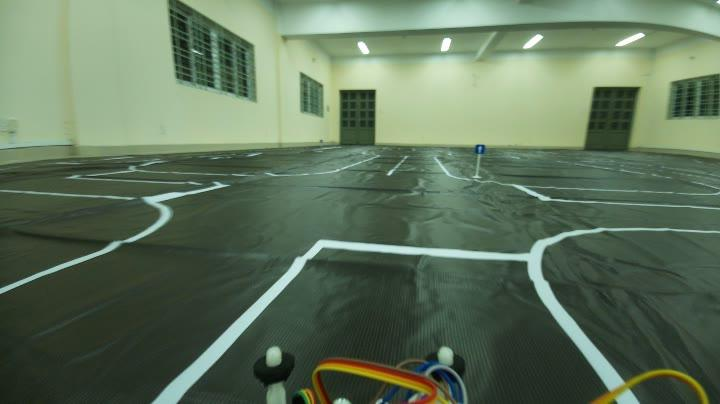onewayroad: (471, 138, 487, 160)
